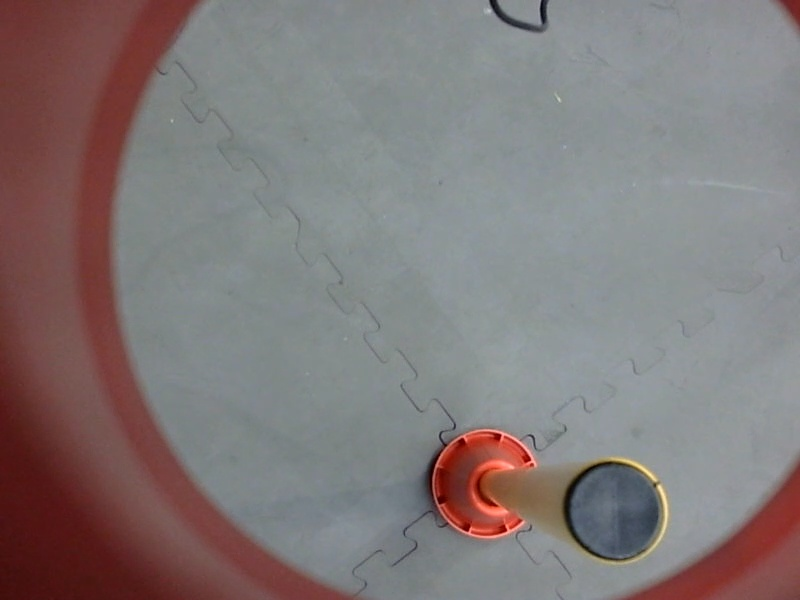tip: (555, 453, 673, 574)
